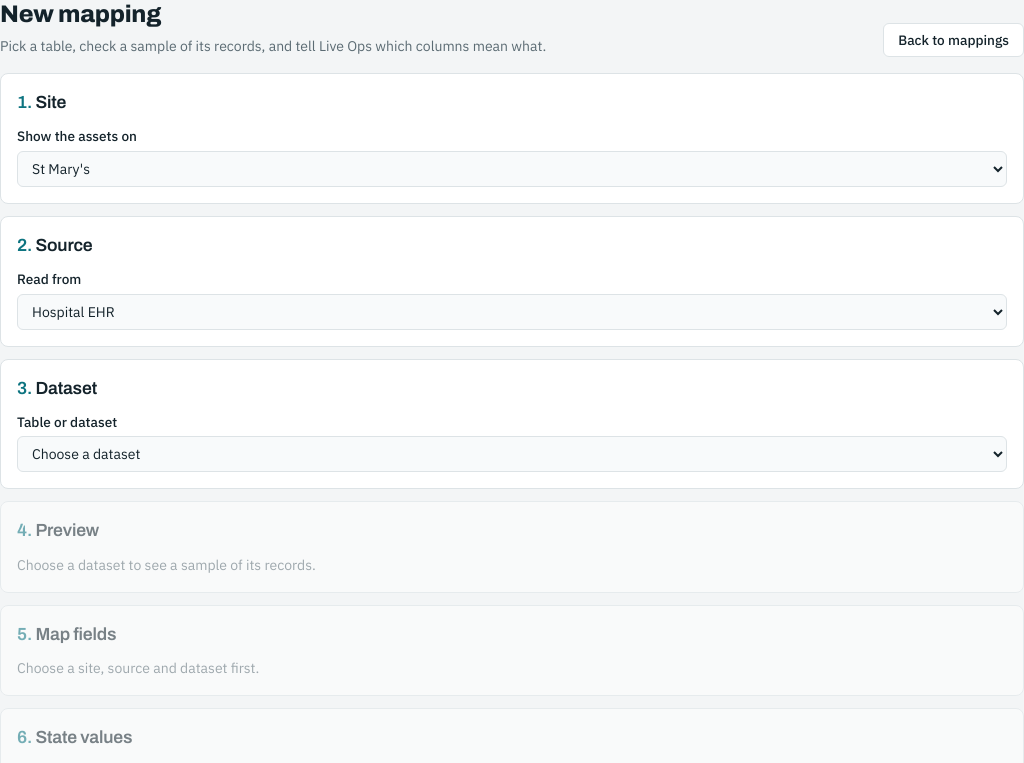
it: FastAPI body validation errors are readable
This screenshot has width=1024, height=763.
Select "public.beds (5 columns)" in the dropdown labelled "Table or dataset" at (512, 454), box [17,436,1007,472]
(page scrolled)
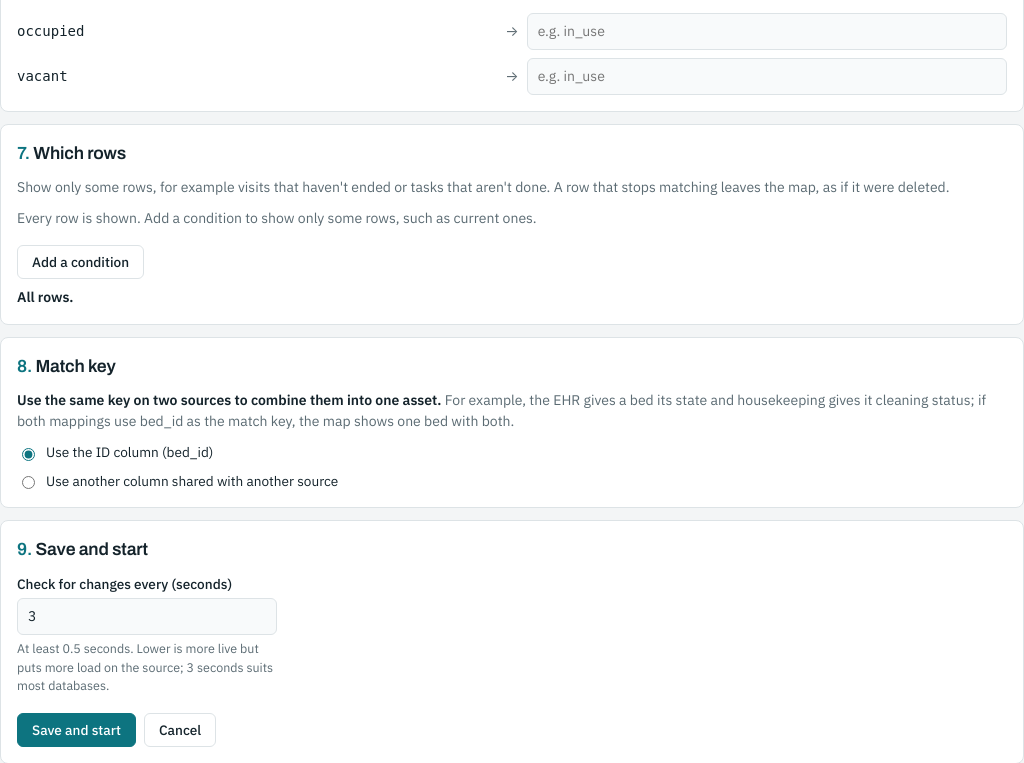
Click the button "Save and start" at (76, 730), box [17,713,136,747]
(page scrolled)
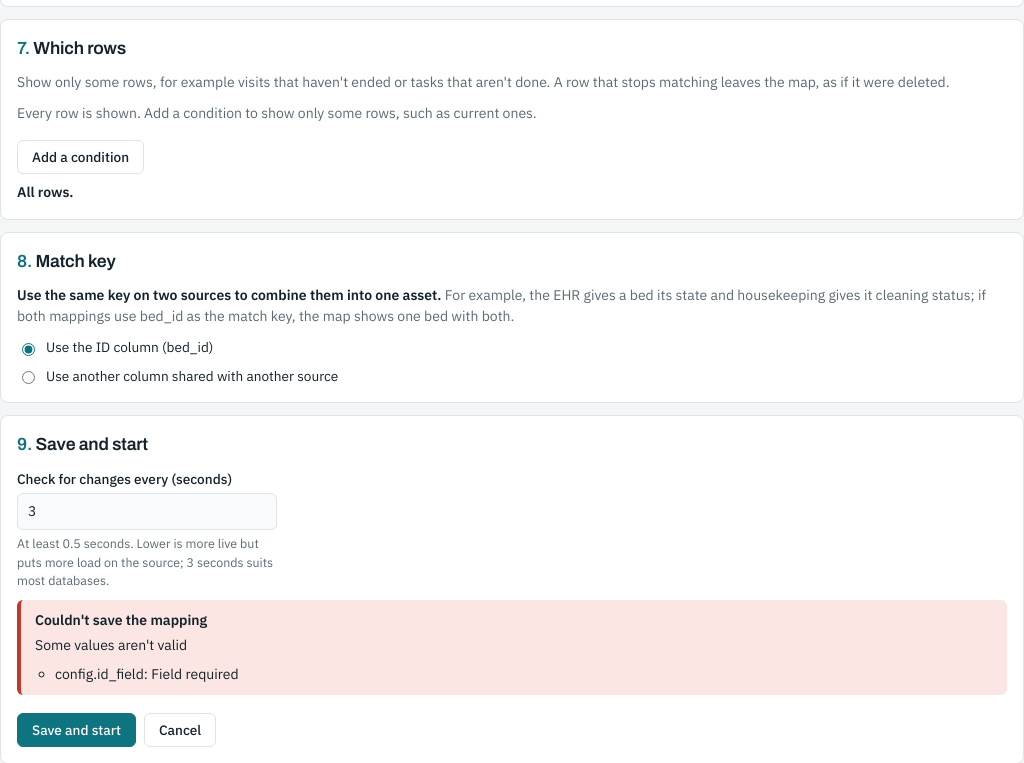
Result: the list item "config.id_field: Field required" is shown at [55,665,239,683]
